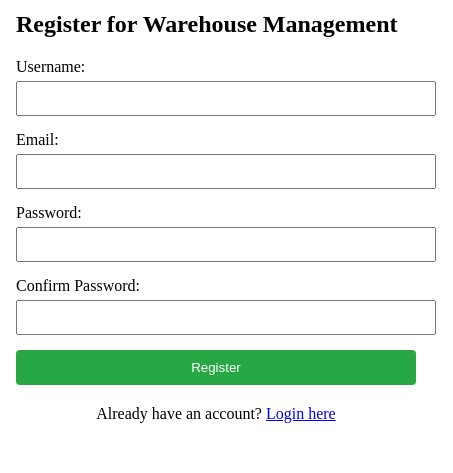
Test: Register Component › shows error when passwords do not match
The image size is (453, 473).
Type "newuser" into the field labelled "Username:" at {"x": 226, "y": 98}, box 16,81 -> 436,116
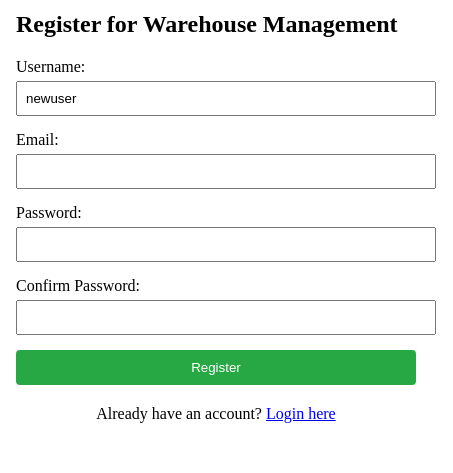
Type "newuser@test.com" into the field labelled "Email:" at {"x": 226, "y": 171}, box 16,154 -> 436,189
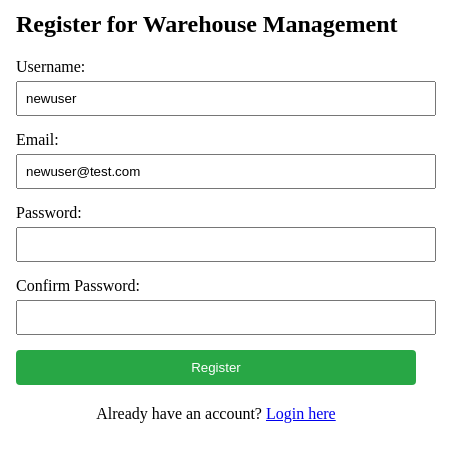
Type "password123" into the password field labelled "Password:" at {"x": 226, "y": 244}, box 16,227 -> 436,262
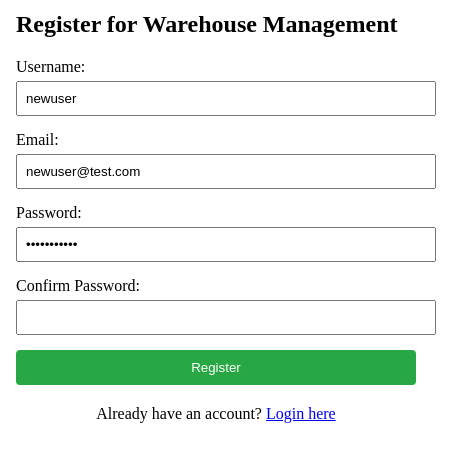
Type "different123" into the password field labelled "Confirm Password:" at {"x": 226, "y": 317}, box 16,300 -> 436,335
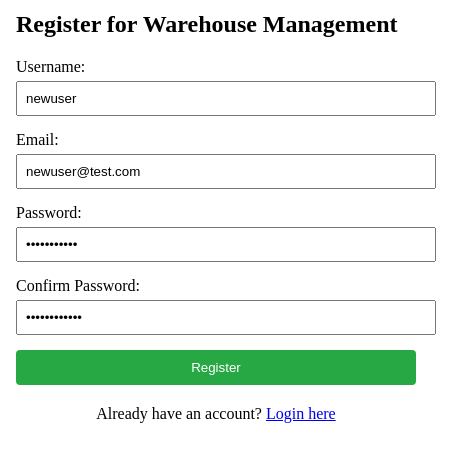
Click the button "Register" at {"x": 216, "y": 367}, box 16,350 -> 416,385
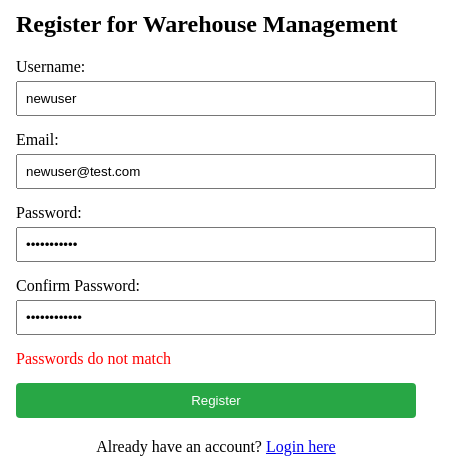
Expected: the text "Passwords do not match" is shown, 16,350 -> 171,367
